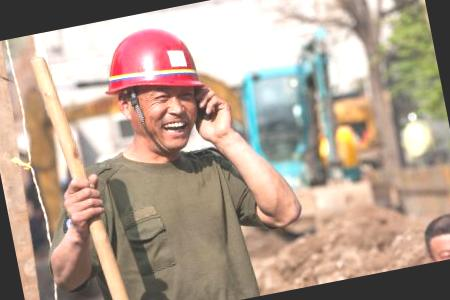no_helmet: (417, 208, 450, 262)
person: (7, 2, 319, 300)
